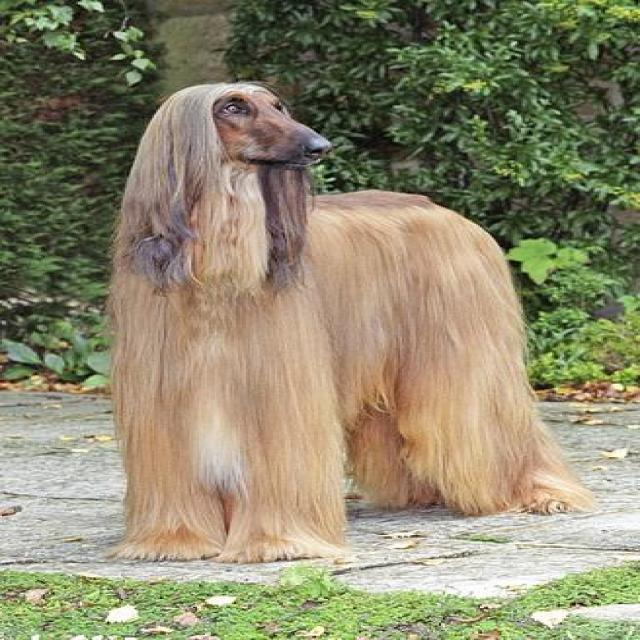afghan_hound: (94, 80, 603, 560)
